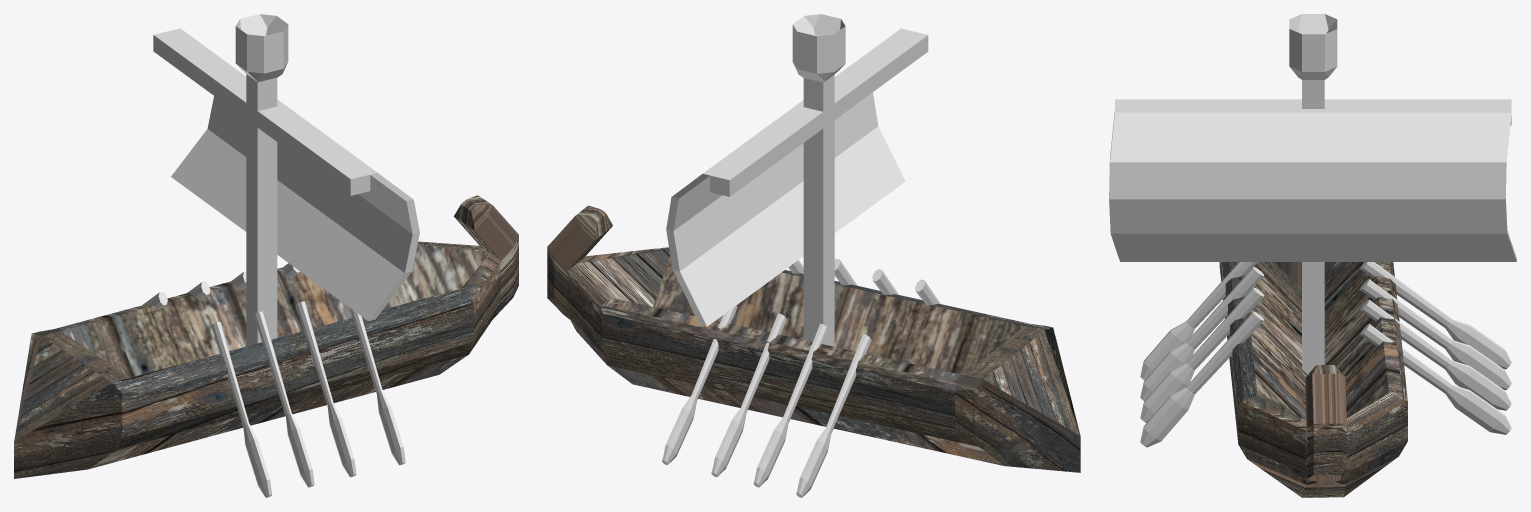
The model's file is galley.glb.
The picture shows the model from 3 angles, left to right: view 1: azimuth 30°, elevation 25°; view 2: azimuth 150°, elevation 25°; view 3: azimuth 270°, elevation 25°; orthographic projection.
Parts seen in each view (by area): view 1: Boat, MastSail, Cube.003; view 2: Boat, MastSail, Cube.003; view 3: MastSail, Boat, Cube.003.
Boxes of the visible parts, bbox=[...] form: Boat: bbox=[14, 195, 518, 478]; MastSail: bbox=[153, 14, 419, 346]; Cube.003: bbox=[142, 263, 405, 497]; Boat: bbox=[547, 205, 1080, 472]; MastSail: bbox=[666, 14, 928, 346]; Cube.003: bbox=[662, 258, 940, 497]; MastSail: bbox=[1109, 14, 1516, 374]; Boat: bbox=[1219, 262, 1407, 497]; Cube.003: bbox=[1140, 262, 1511, 447].
Size of the model in its own units: 6.09 by 4.48 by 4.19.
1 material, 1 textured.
